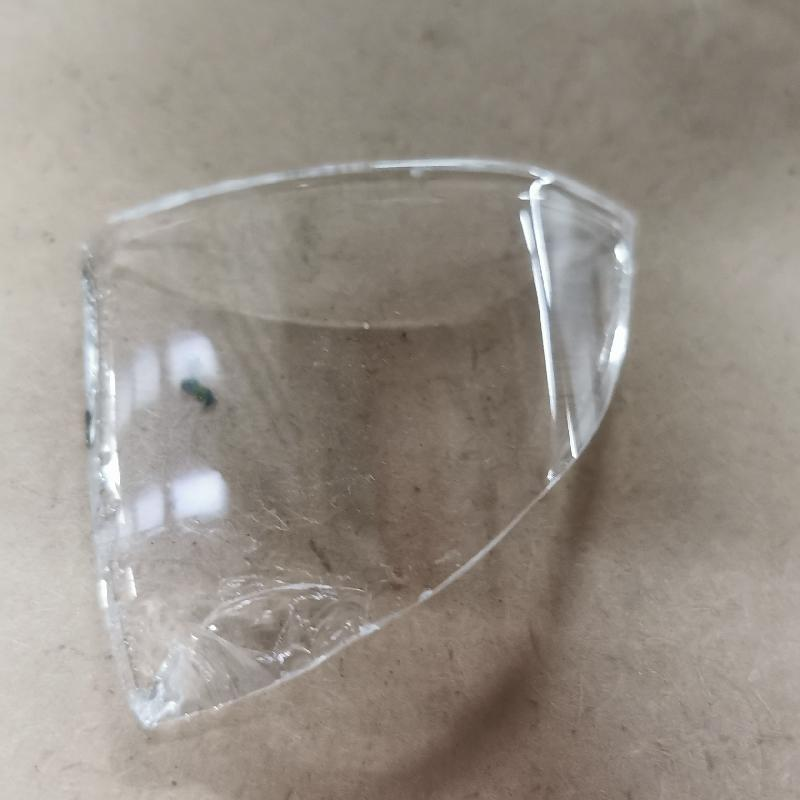glass: (74, 157, 640, 736)
